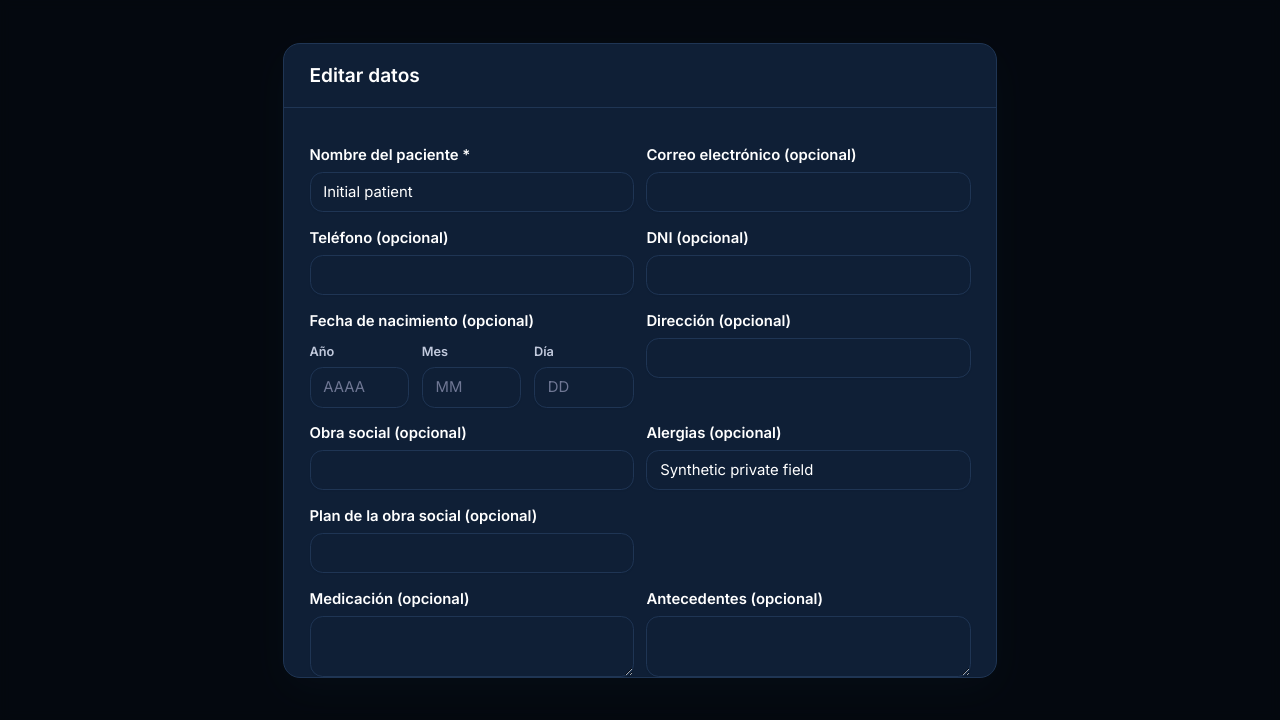
Test: patient profile edit snapshot and response ownership › keeps fields and the original revision on technical failure, without showing raw errors
Replace the text in the field labelled "Nombre del paciente *" with "Unsaved draft" at x=472, y=192, box x1=310 y1=172 x2=634 y2=212
(page scrolled)
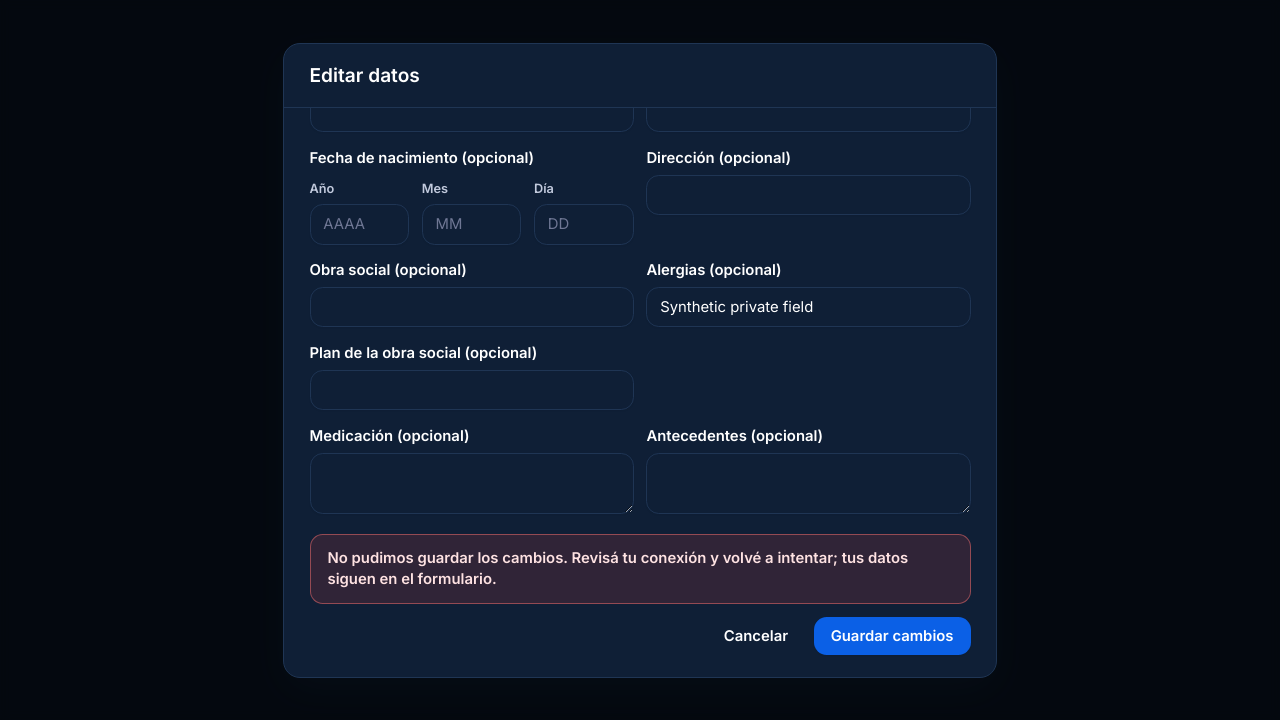
Check: the message does not show "PRIVATE_SENTINEL", box x1=310 y1=534 x2=970 y2=604
Check: the message shows "tus datos siguen en el formulario", box x1=328 y1=549 x2=908 y2=588
Check: the button "Guardar cambios" is enabled, box x1=814 y1=617 x2=970 y2=655
